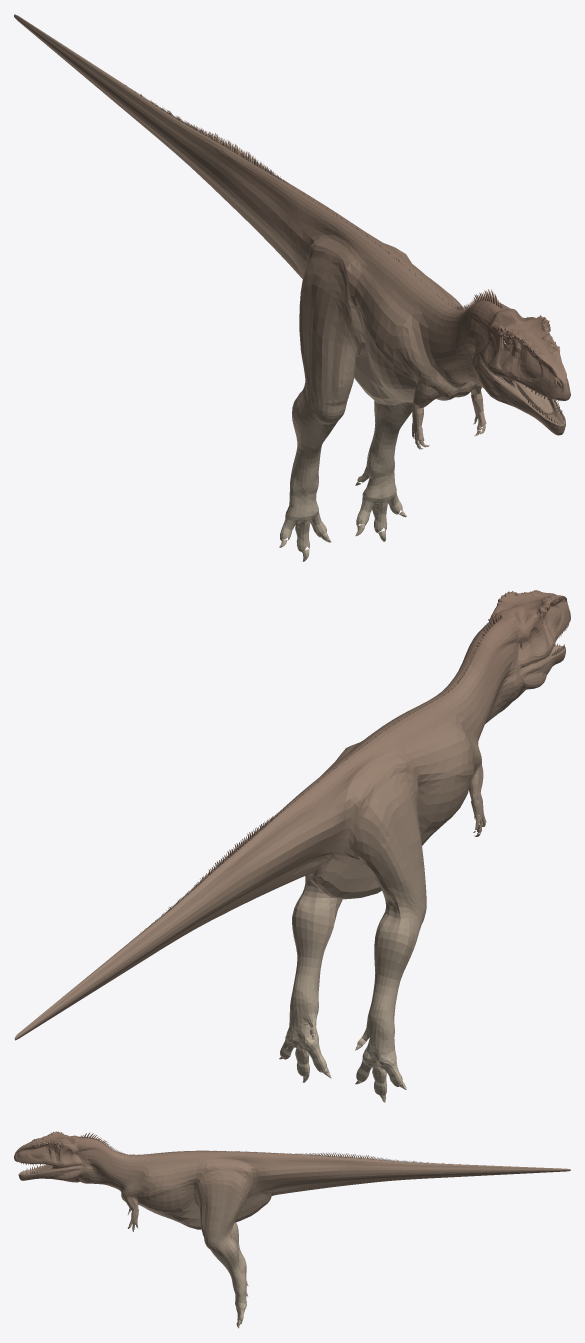
The model's file is mapusaurus.glb.
The picture shows the model from 3 angles, top to bottom: view 1: azimuth 30°, elevation 25°; view 2: azimuth 150°, elevation 25°; view 3: azimuth 270°, elevation 25°; orthographic projection. The views are drawn at different scales.
Parts seen in each view (by area): view 1: world; view 2: world; view 3: world.
Part boxes in pixels (left/top/right/bottom): world: left=14, top=14, right=570, bottom=561; world: left=14, top=590, right=570, bottom=1102; world: left=14, top=1131, right=570, bottom=1328.
Bounding box in the file's own units: 1.57 × 4.33 × 11.74.
